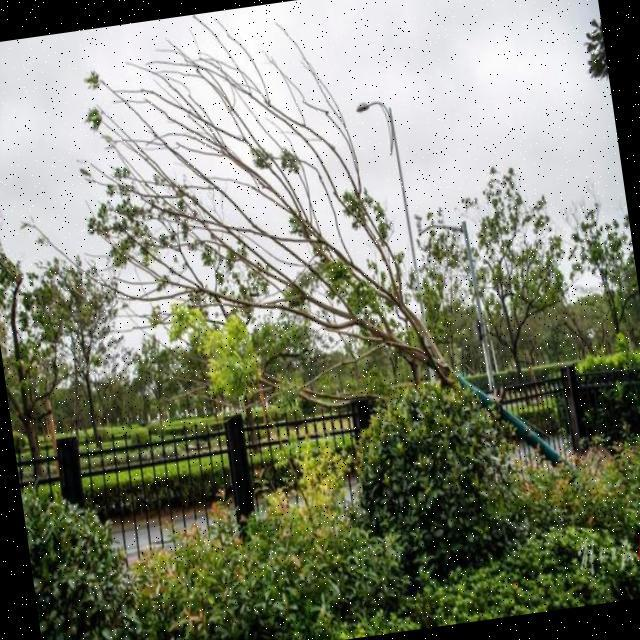fallen_object: (55, 0, 574, 536)
